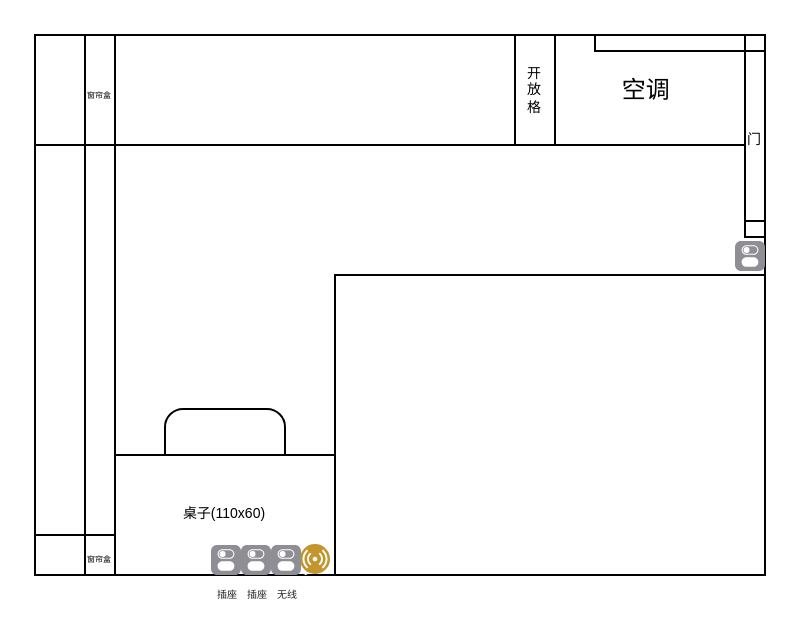
This 800x636 diagram has some shape labels left out. The shapes that lost their labels are listed below. From the top down, each one's centre as x and y in pixels, then its label:
At (x=314, y=89): "衣柜(55x200)".
At (x=404, y=209): "65cm".
At (x=749, y=255): "屏幕开关".
At (x=59, y=339): "推 拉 门".
At (x=549, y=424): "床(150x215)".
